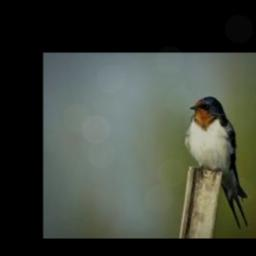Swallow: (184, 96, 249, 229)
